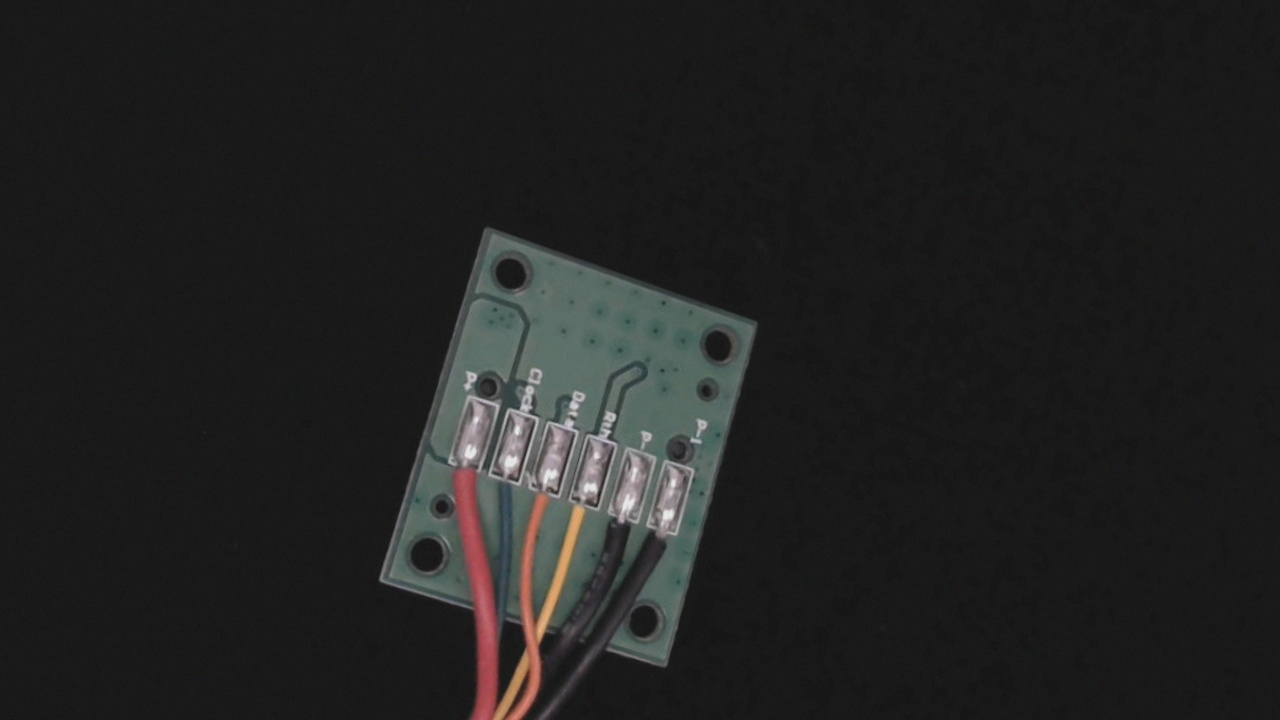Black: (585, 495, 647, 585)
Black1: (628, 509, 687, 593)
Green: (473, 454, 527, 530)
Orange: (508, 468, 567, 557)
Red: (426, 442, 487, 530)
Yellow: (543, 481, 605, 572)
